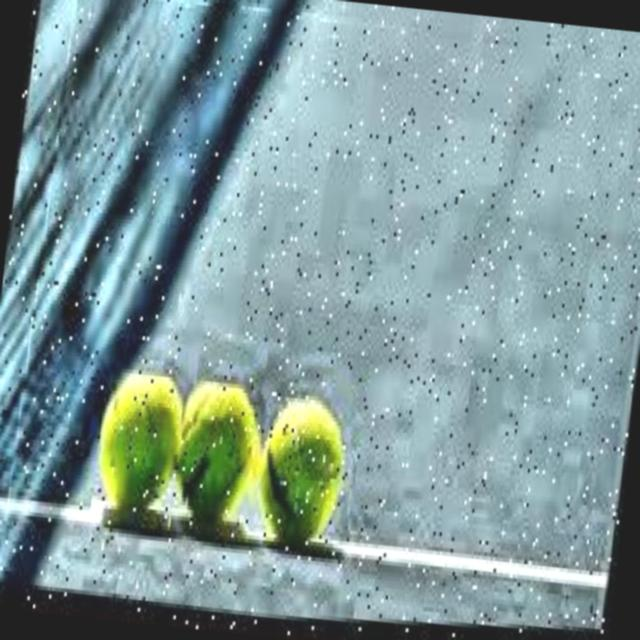tennis-ball: (88, 369, 190, 541), (168, 380, 268, 552), (250, 393, 353, 557)
